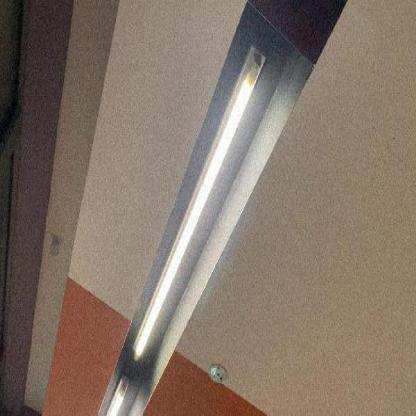light_on: (126, 27, 274, 365), (88, 379, 135, 415)
